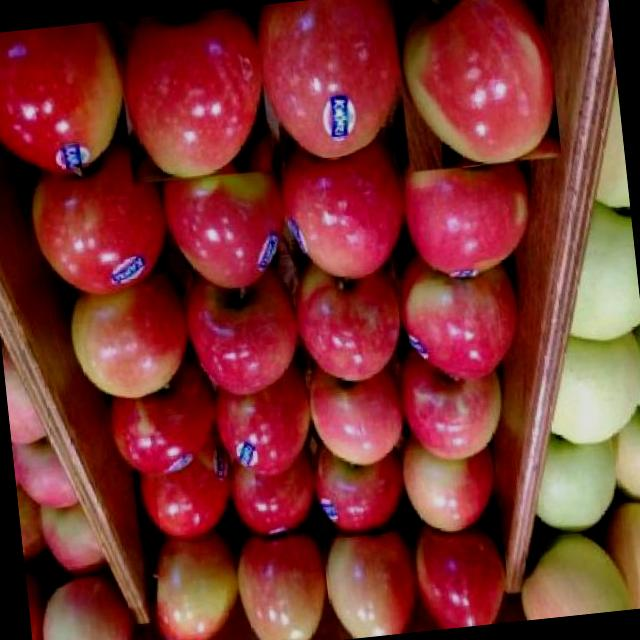Apple: (390, 0, 561, 172), (116, 5, 270, 184), (255, 0, 401, 170), (396, 144, 542, 287), (22, 160, 168, 298), (0, 20, 126, 178), (278, 140, 417, 282), (160, 164, 294, 288), (179, 270, 301, 397), (60, 280, 184, 404), (399, 270, 528, 382), (294, 266, 405, 387), (300, 364, 416, 472), (103, 374, 217, 482), (310, 440, 417, 546), (402, 360, 514, 460), (397, 431, 502, 536), (319, 531, 420, 640), (517, 528, 636, 620), (412, 529, 509, 631), (235, 538, 330, 640), (146, 539, 240, 640), (212, 382, 312, 476), (132, 452, 233, 542), (225, 449, 314, 542), (31, 570, 140, 640), (36, 497, 125, 576), (11, 434, 81, 510), (598, 493, 640, 611)
